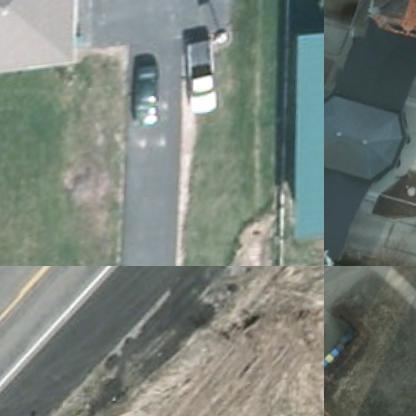car: (129, 65, 162, 133)
pickup: (177, 41, 223, 125)
